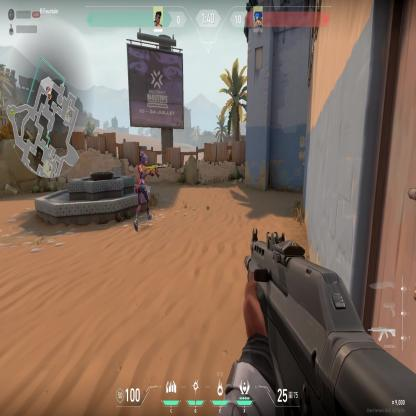enemy: (132, 149, 158, 235)
